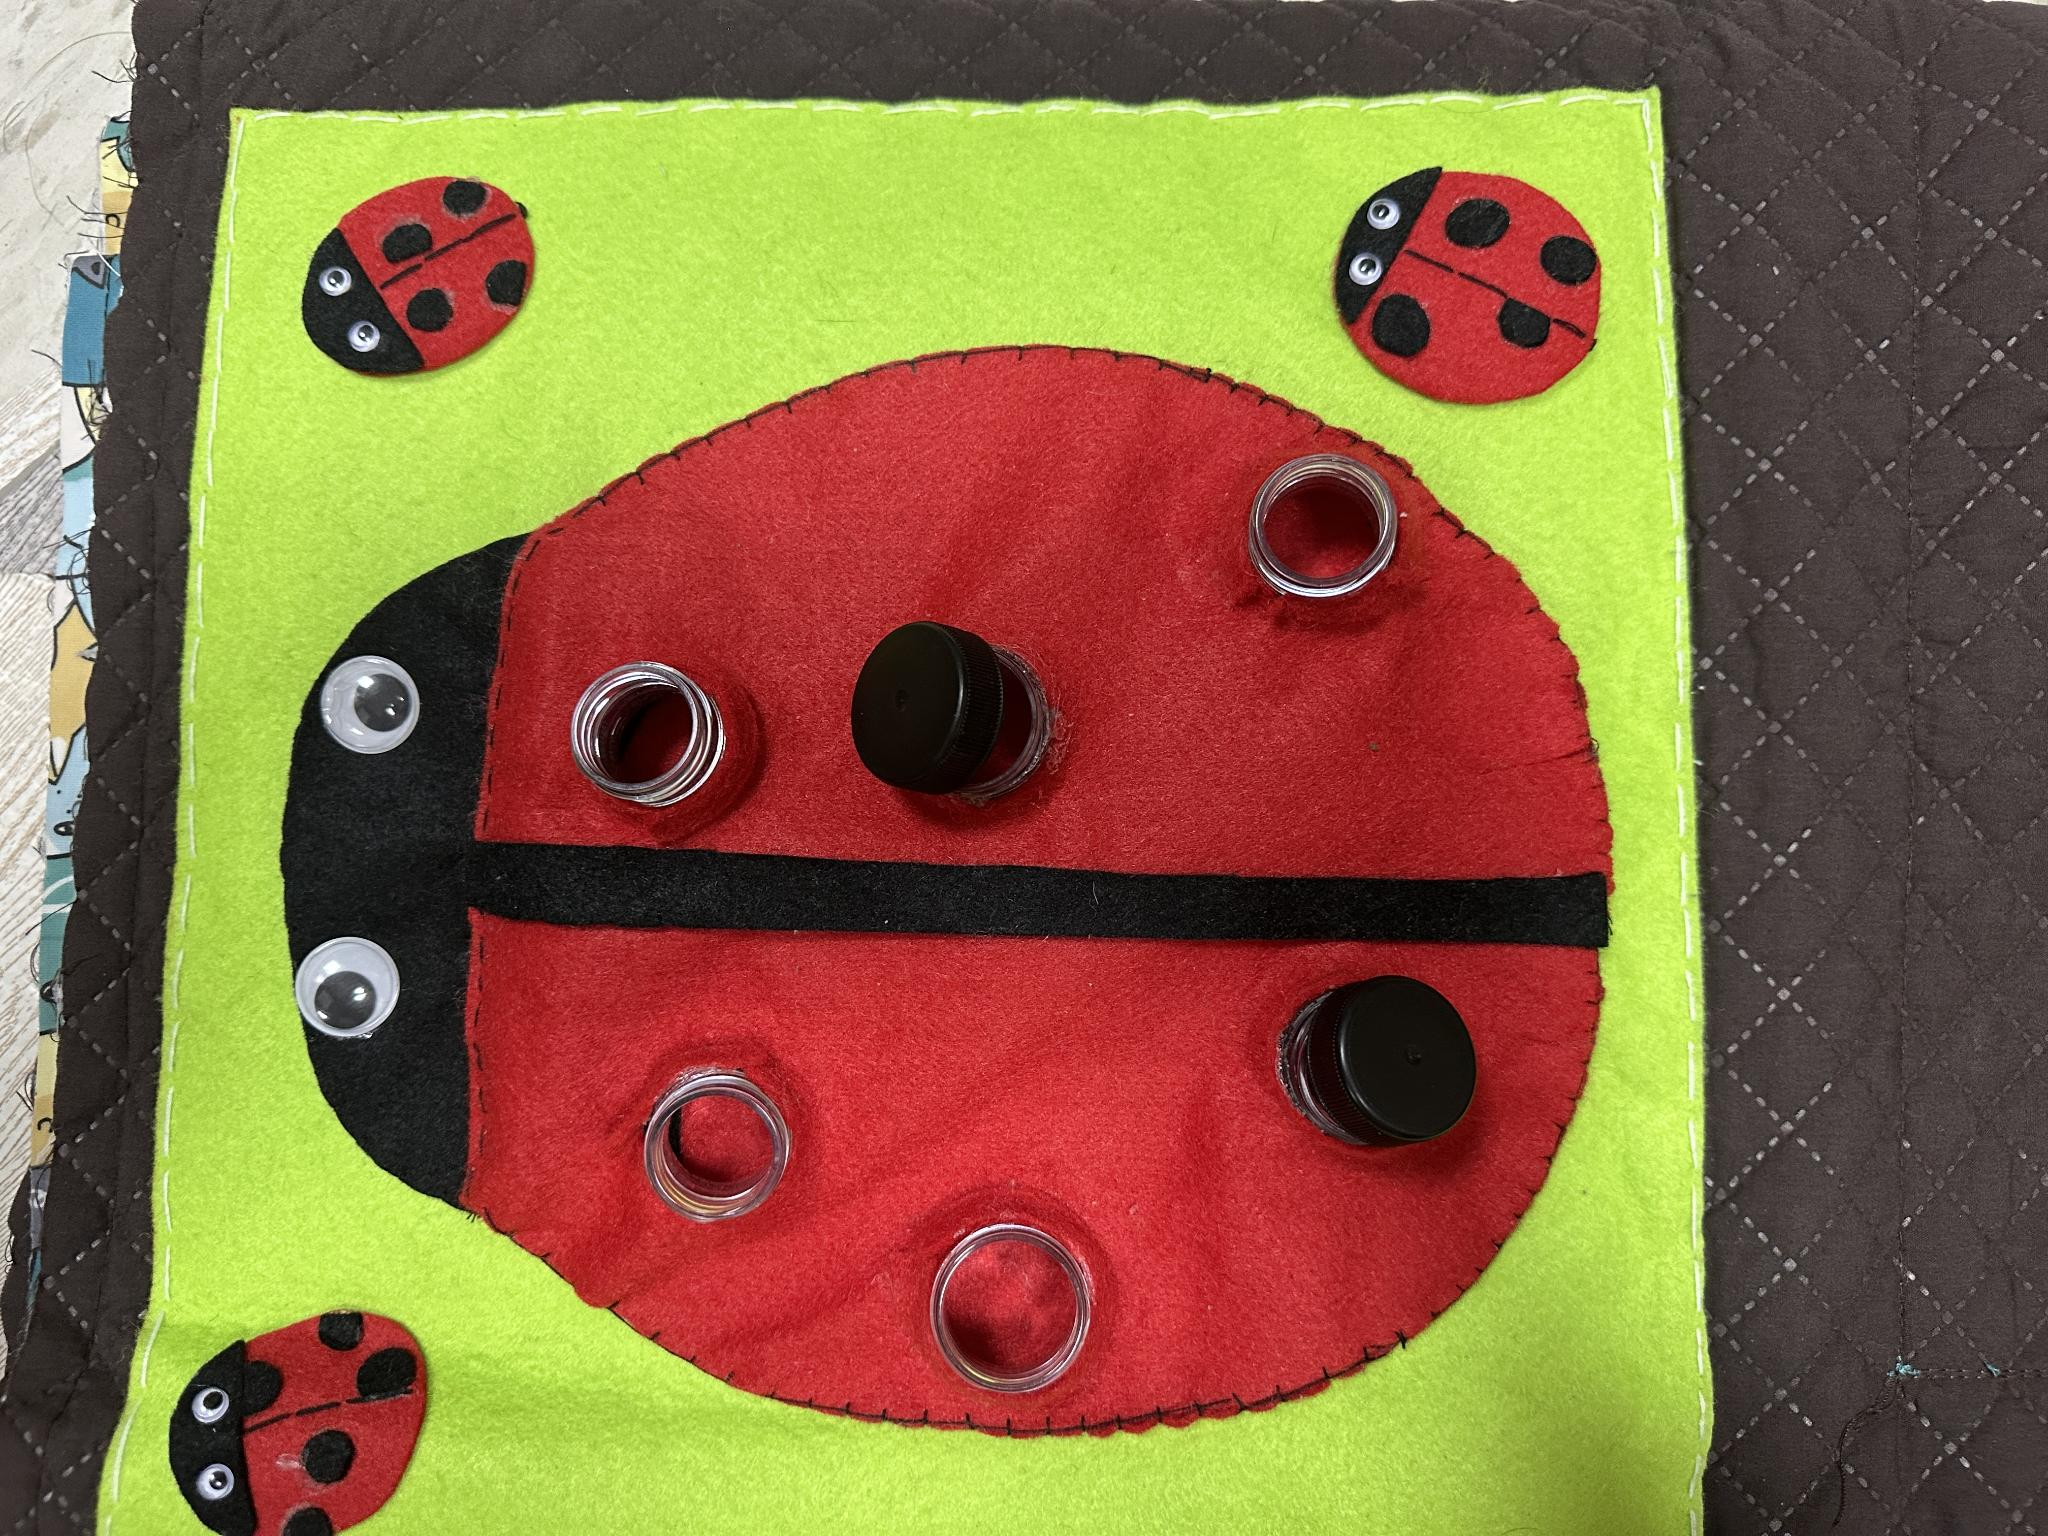cap_ng: (842, 610, 1092, 829), (1258, 971, 1490, 1158)
